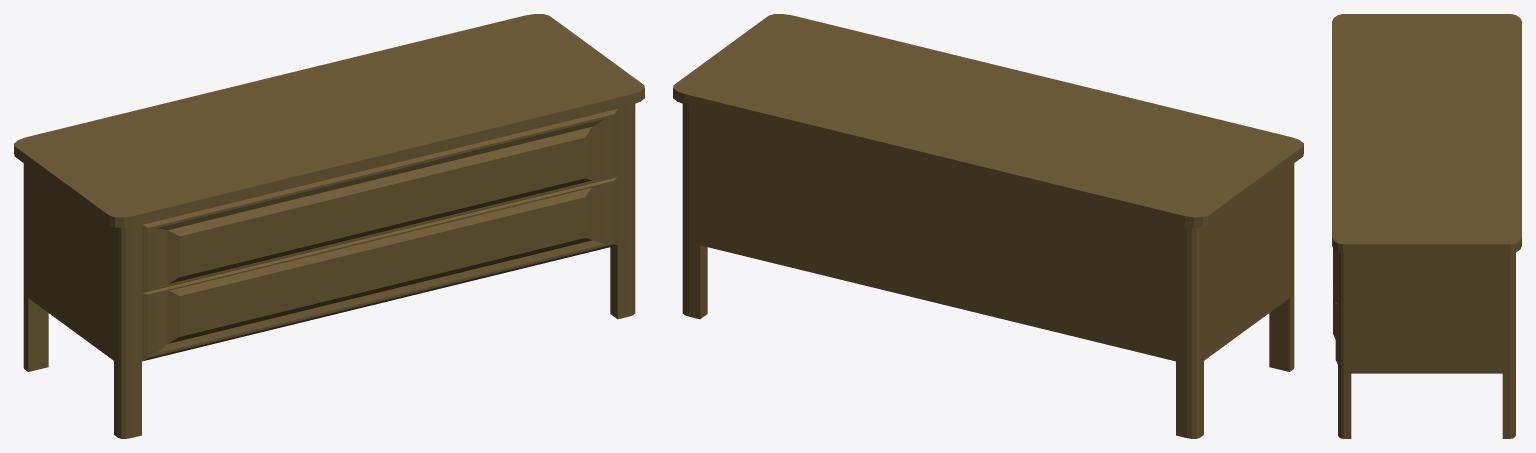
File: dulapior inchis.fbx
3 renders of one model, left to right at view 1: azimuth 30°, elevation 25°; view 2: azimuth 150°, elevation 25°; view 3: azimuth 270°, elevation 25°, orthographic. The views are drawn at different scales.
Parts seen in each view (by area): view 1: Plane.005; view 2: Plane.005; view 3: Plane.005.
Boxes of the visible parts, bbox=[...] form: Plane.005: bbox=[14, 14, 644, 438]; Plane.005: bbox=[673, 14, 1303, 438]; Plane.005: bbox=[1332, 14, 1521, 438].
Size of the model in its own units: 223 by 89.75 by 77.84.
